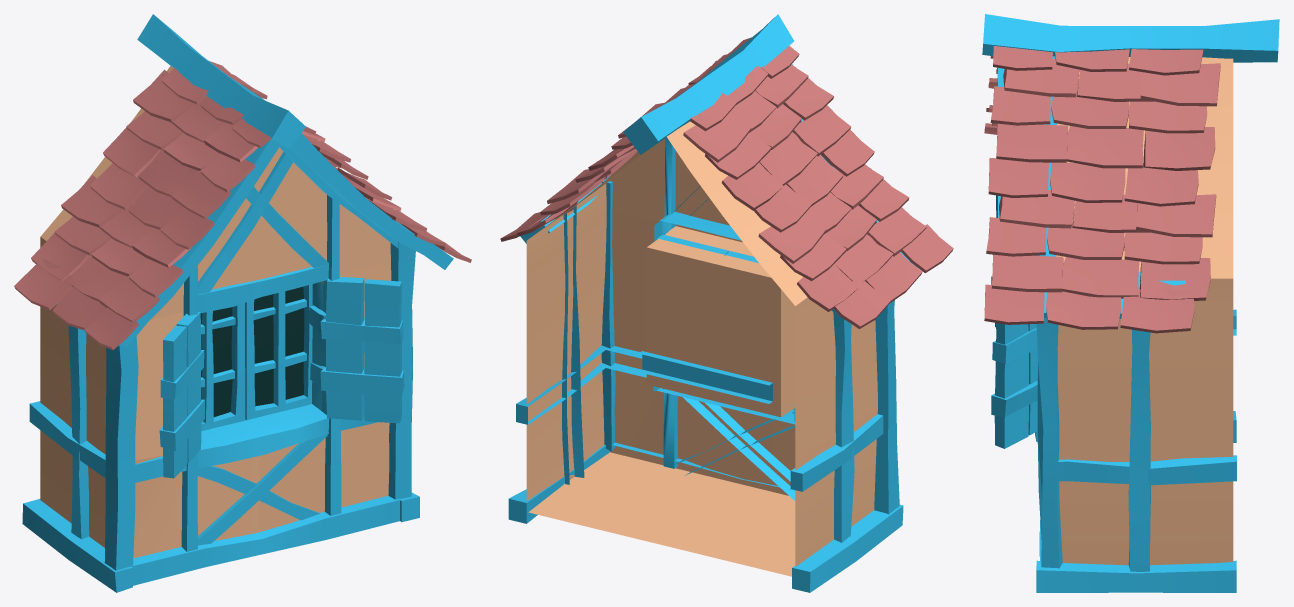
The model's file is House_extension_01.fbx.
The picture shows the model from 3 angles, left to right: view 1: azimuth 30°, elevation 25°; view 2: azimuth 150°, elevation 25°; view 3: azimuth 270°, elevation 25°; orthographic projection. The views are drawn at different scales.
Parts seen in each view (by area): view 1: House_extension_01; view 2: House_extension_01; view 3: House_extension_01.
Part boxes in pixels (x1,y1,x2,y2): House_extension_01: (14,14,471,592); House_extension_01: (500,14,953,592); House_extension_01: (982,14,1279,592).
Size of the model in its own units: 412 by 504 by 271.
